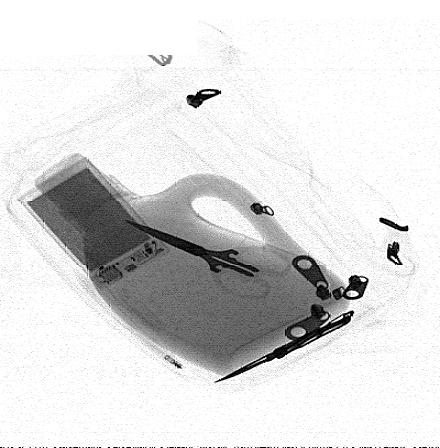Knife: (212, 306, 354, 389)
Powerbank: (12, 158, 172, 293)
Scissors: (125, 217, 292, 302)
